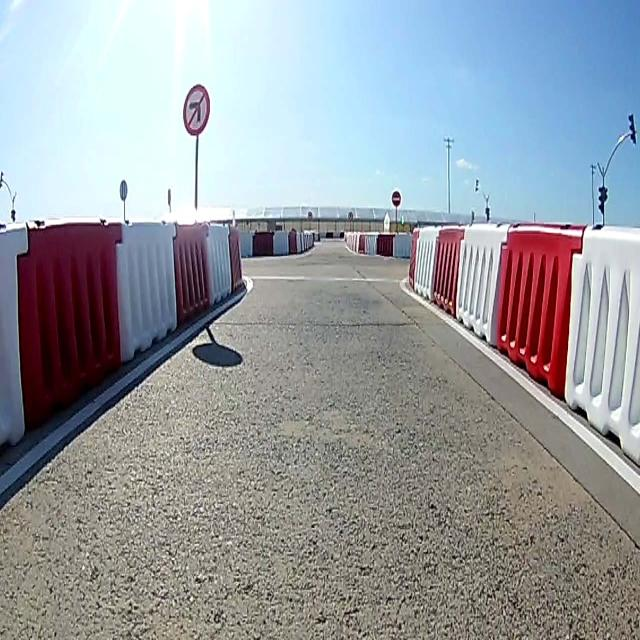girisyok: (391, 188, 401, 208)
soladonulmez: (183, 82, 210, 137)
